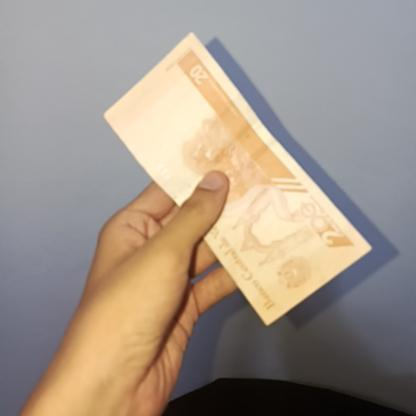twenty-back-vef: (100, 31, 390, 330)
